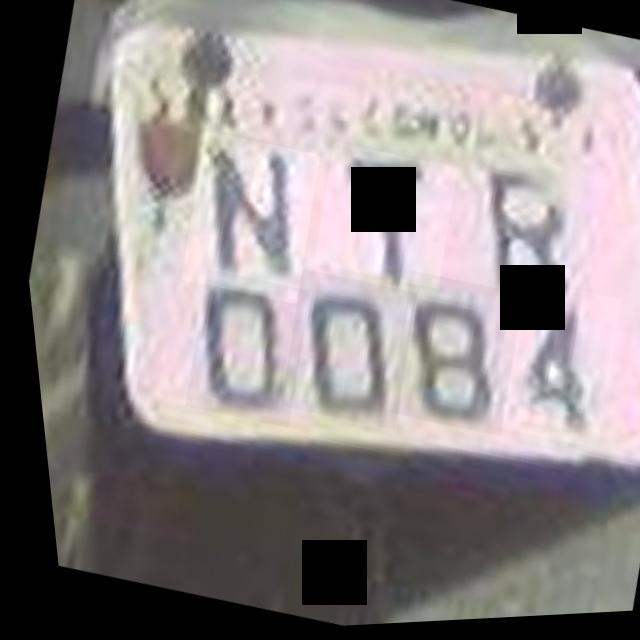0: (260, 267, 421, 438), (164, 267, 314, 434)
4: (468, 278, 626, 458)
8: (367, 270, 527, 445)
N: (162, 128, 328, 311)
T: (297, 140, 463, 298)
